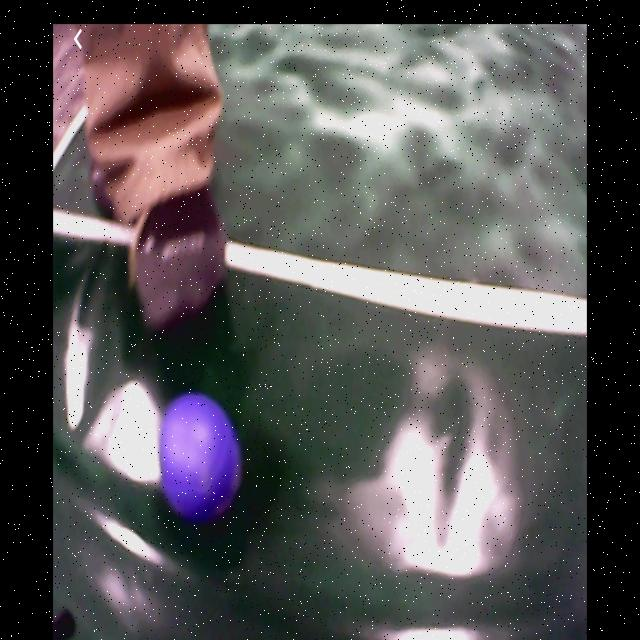ball: (160, 398, 240, 519)
